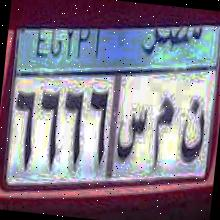6: (56, 82, 88, 174), (33, 86, 64, 172), (8, 84, 38, 171), (82, 82, 113, 165)
meem: (146, 86, 178, 173)
noon: (176, 94, 208, 170)
seen: (112, 105, 149, 168)
